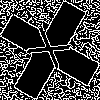X: (25, 25, 82, 77)
